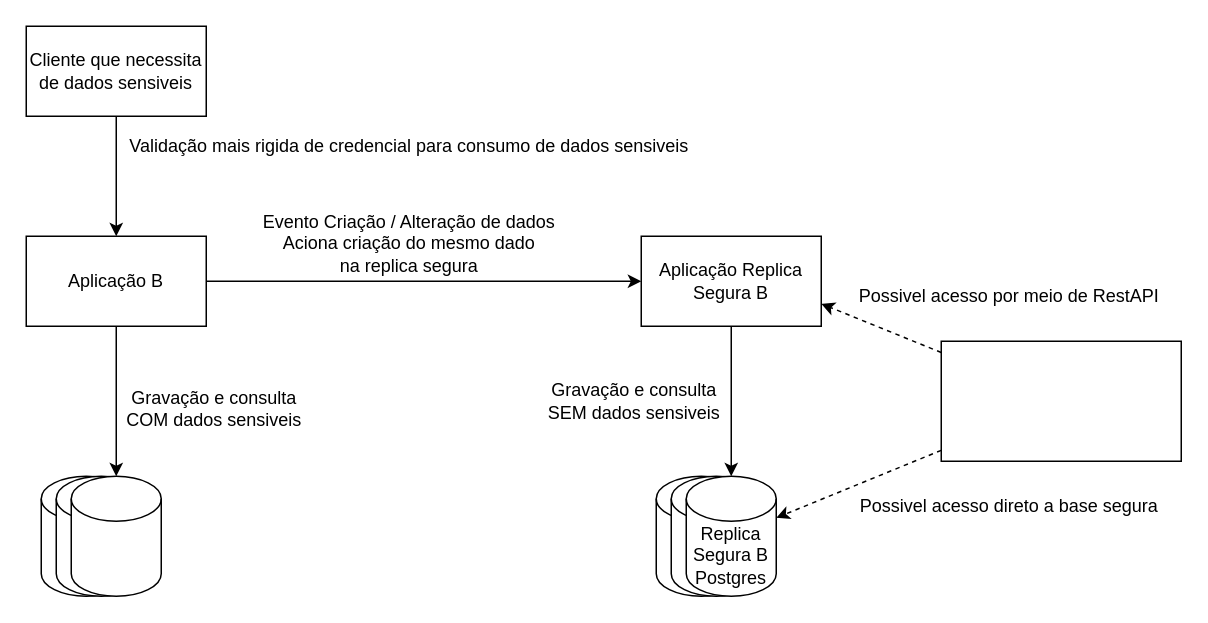
Image size: 1208x623. Some labels were removed from this diagram. The box of each missing label's shape, as (x1, y1, x2, y2) in pixels:
Base B Postgres: (70, 475, 161, 596)
Ferramenta de Machine Learning / qualquer outro cliente: (940, 340, 1181, 461)
